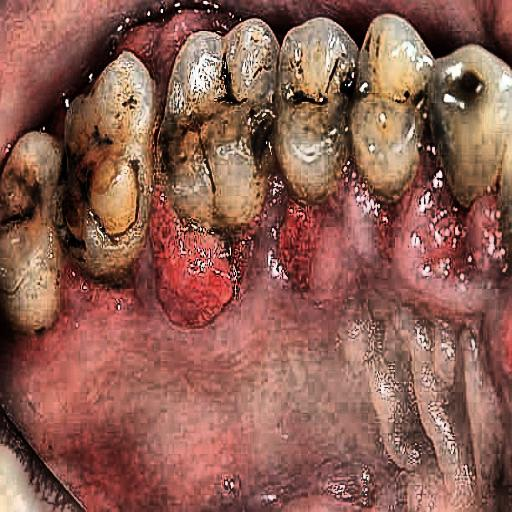Calculus: (38, 27, 408, 276)
